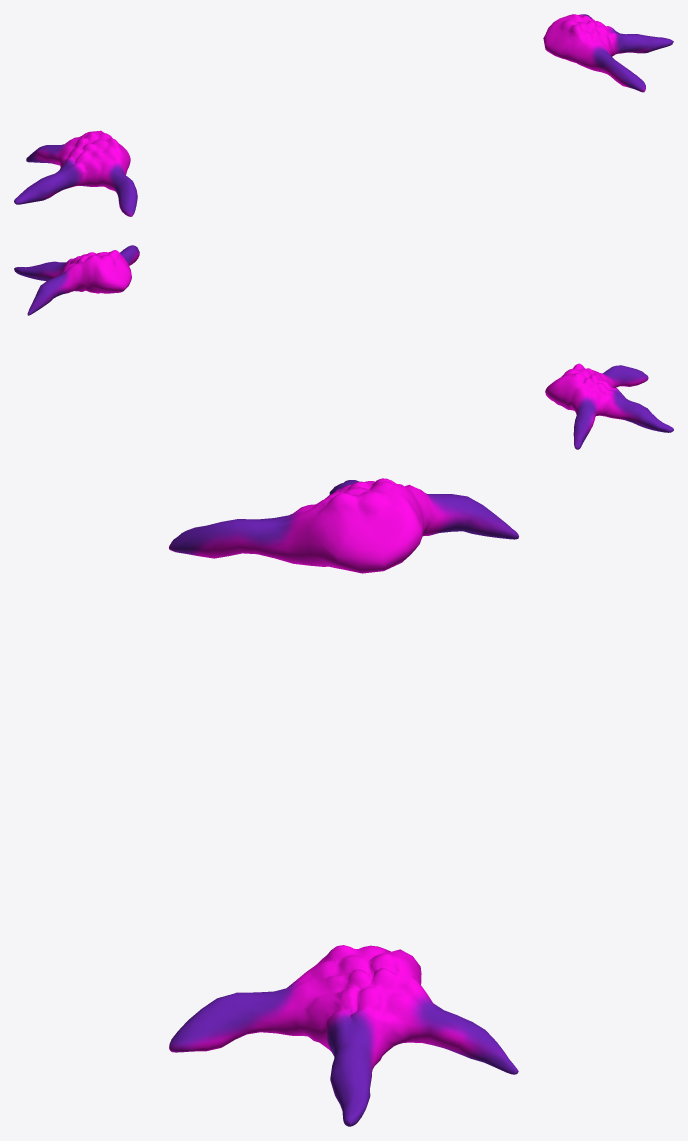
The model's file is PM3D_Extract3.fbx.
The picture shows the model from 3 angles, top to bottom: view 1: azimuth 30°, elevation 25°; view 2: azimuth 150°, elevation 25°; view 3: azimuth 270°, elevation 25°; orthographic projection. The views are drawn at different scales.
Visible parts, largest first — view 1: PM3D_Extract3; view 2: PM3D_Extract3; view 3: PM3D_Extract3.
Part boxes in pixels (x1=…): PM3D_Extract3: x1=14, y1=14, x2=673, y2=216; PM3D_Extract3: x1=14, y1=245, x2=673, y2=449; PM3D_Extract3: x1=169, y1=478, x2=518, y2=1126.
Size of the model in its own units: 1.93 by 0.1289 by 0.4446.
1 material, 1 textured.
